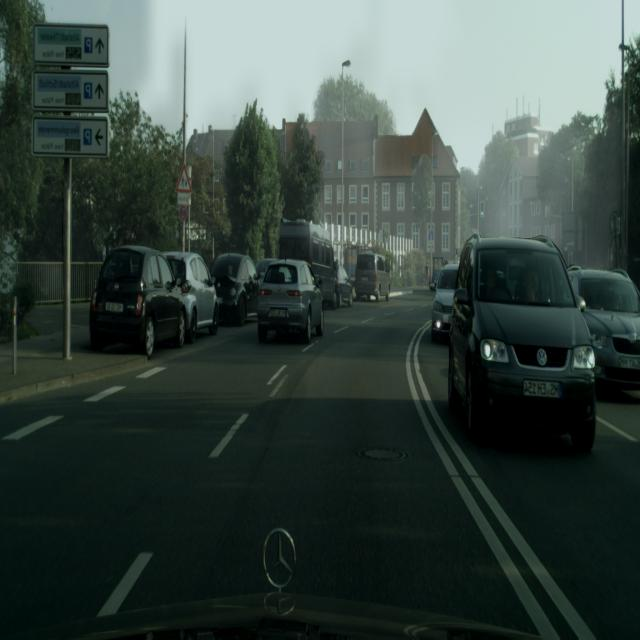car: (447, 235, 597, 453), (88, 245, 189, 359), (568, 266, 640, 392), (256, 258, 324, 344), (163, 251, 219, 339), (210, 252, 259, 326), (431, 262, 459, 343), (354, 252, 391, 302), (336, 264, 353, 308)
motorcycle: (278, 219, 339, 309)
